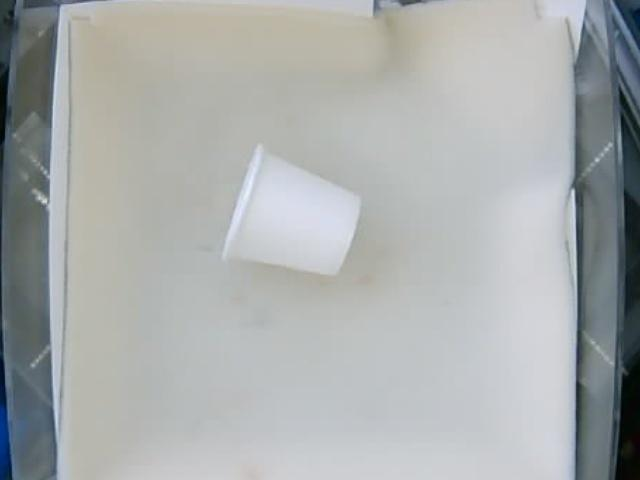Cup: (224, 144, 363, 275)
